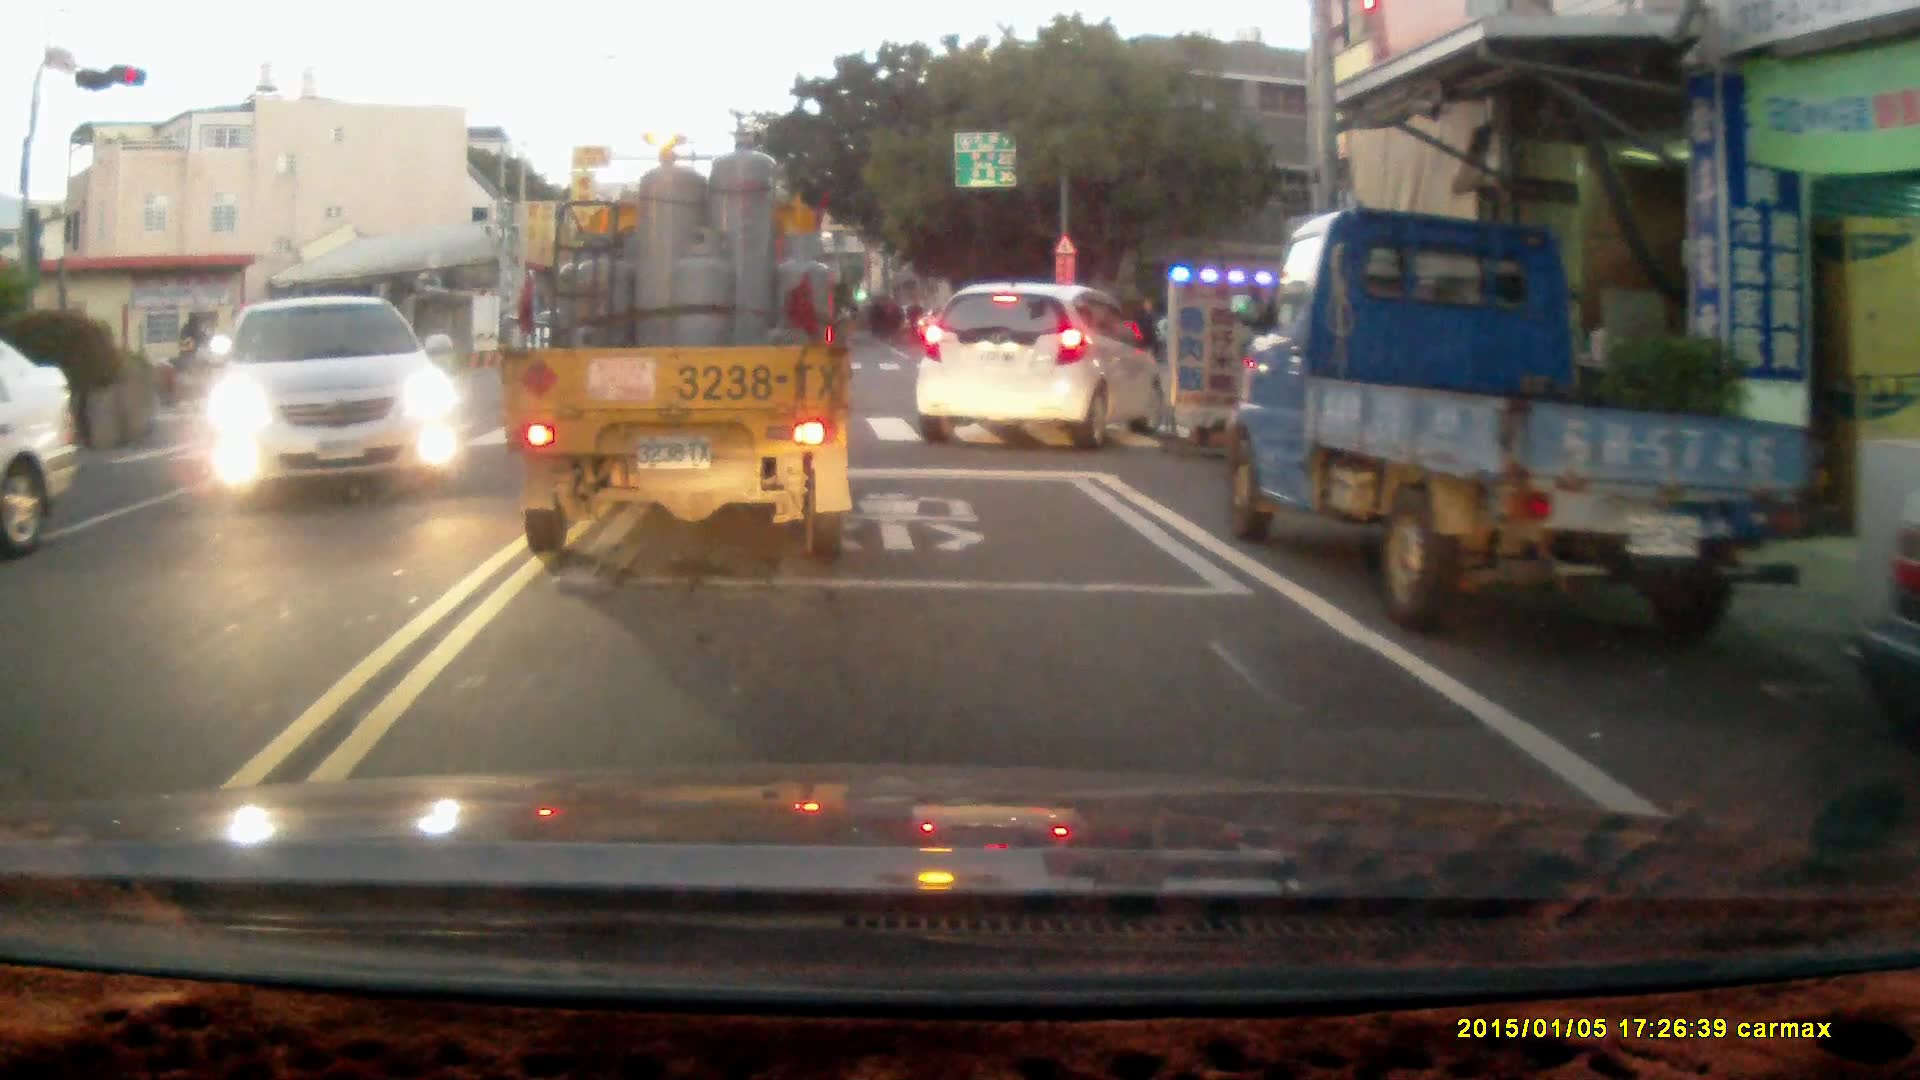rider: (154, 309, 238, 406)
vehicle: (1231, 199, 1819, 633), (511, 128, 860, 557), (210, 297, 463, 501), (910, 283, 1167, 448), (1, 338, 89, 558)
